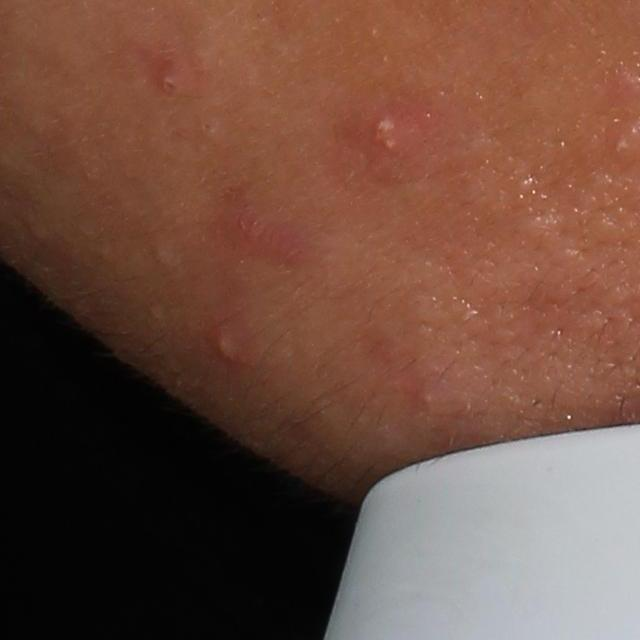comedo: (149, 242, 176, 271)
papule: (228, 206, 278, 252), (142, 53, 187, 99)
pustule: (363, 110, 428, 172), (205, 318, 251, 366)
